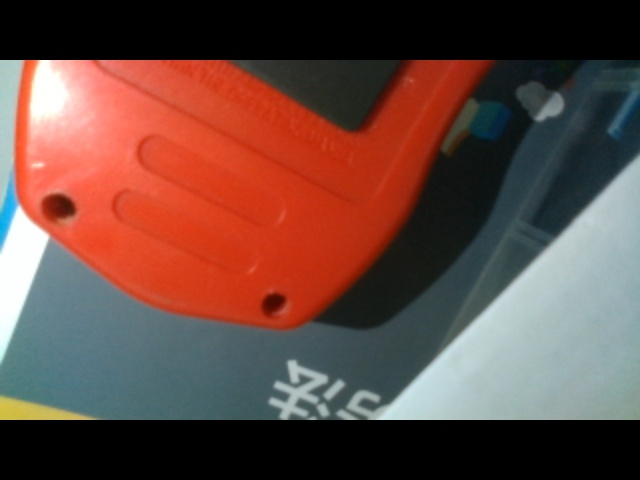Screw holes: (39, 190, 78, 227), (263, 290, 286, 317)
